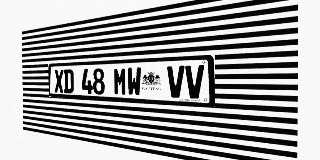4: (82, 69, 93, 94)
8: (93, 68, 105, 95)
D: (64, 69, 74, 93)
M: (113, 67, 127, 96)
V: (185, 65, 204, 99), (167, 65, 185, 98)
W: (127, 67, 141, 96)
X: (54, 69, 64, 93)
